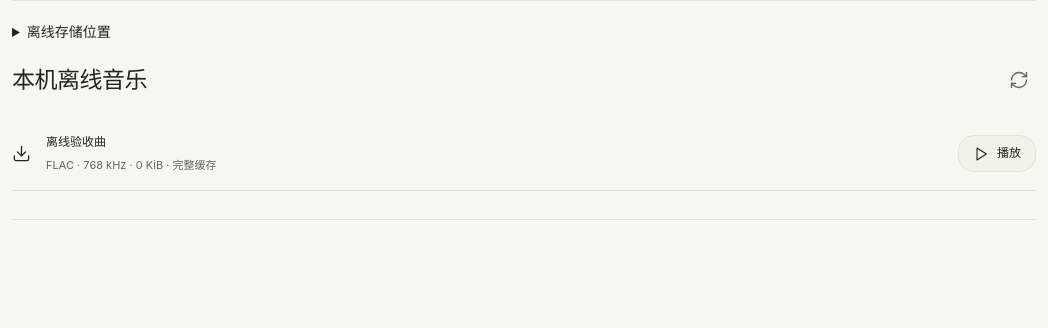
安卓冷启动离线入口使用本机队列，缓存播放状态可恢复并暂停
Click the button "播放": (997, 154) [958, 135, 1036, 172]
Wait 1000 ms
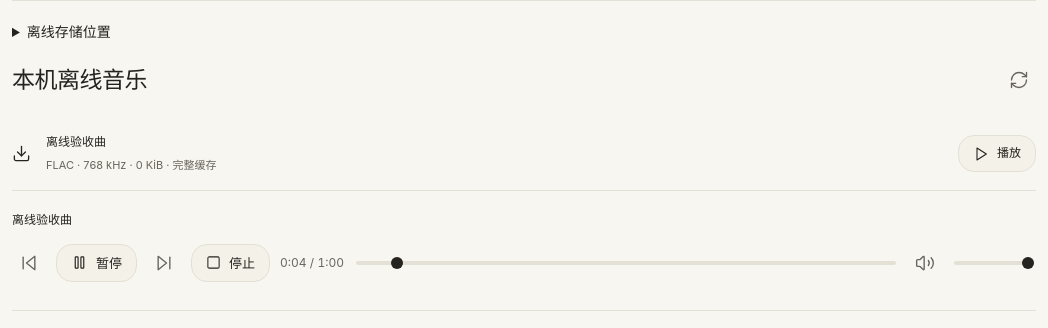
Result: the text "0:04" is shown at [280, 255, 307, 270]
Result: the button named "离线下一首" is shown at [147, 246, 181, 280]
Click the button "暂停": (96, 263) [56, 244, 137, 282]
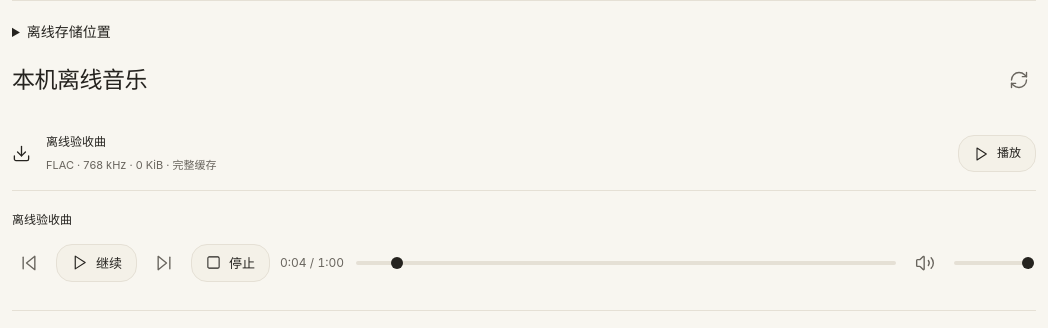
Result: the text "继续" is shown at [56, 244, 137, 282]
